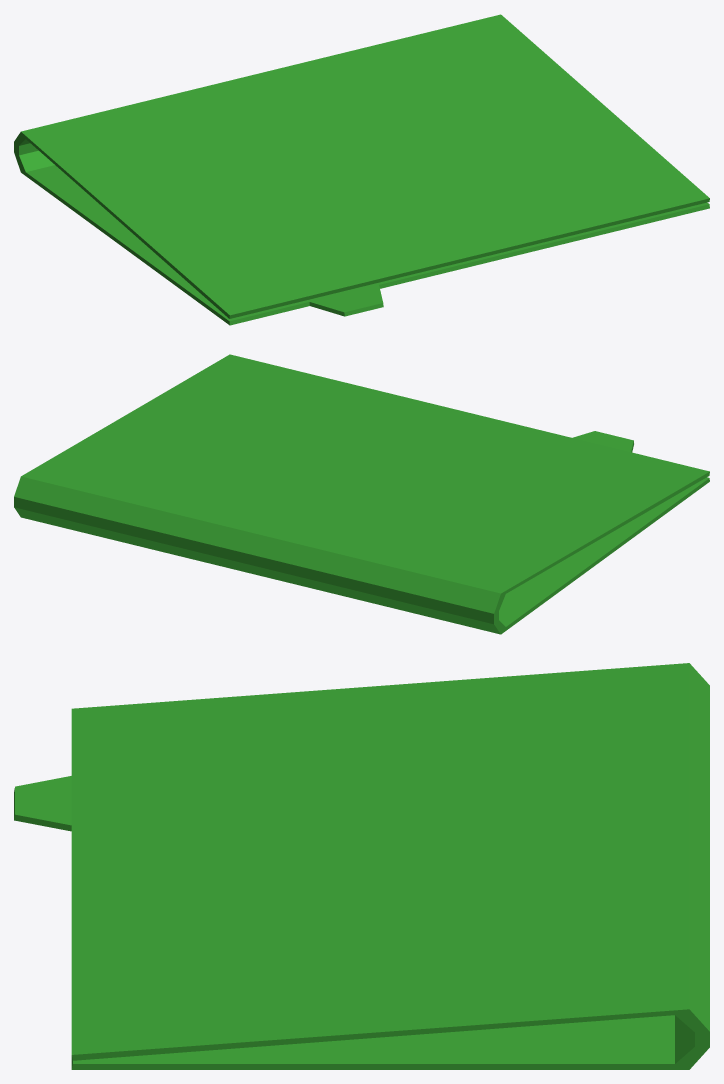
File: folder2.fbx
3 renders of one model, top to bottom at view 1: azimuth 30°, elevation 25°; view 2: azimuth 150°, elevation 25°; view 3: azimuth 270°, elevation 25°, orthographic. The views are drawn at different scales.
Visible parts, largest first — view 1: folder2; view 2: folder2; view 3: folder2.
Part boxes in pixels (x1,y1,x2,y2): folder2: (14,14,709,325); folder2: (14,354,709,634); folder2: (14,663,709,1069).
Size of the model in its own units: 0.3522 by 0.0288 by 0.2991.
